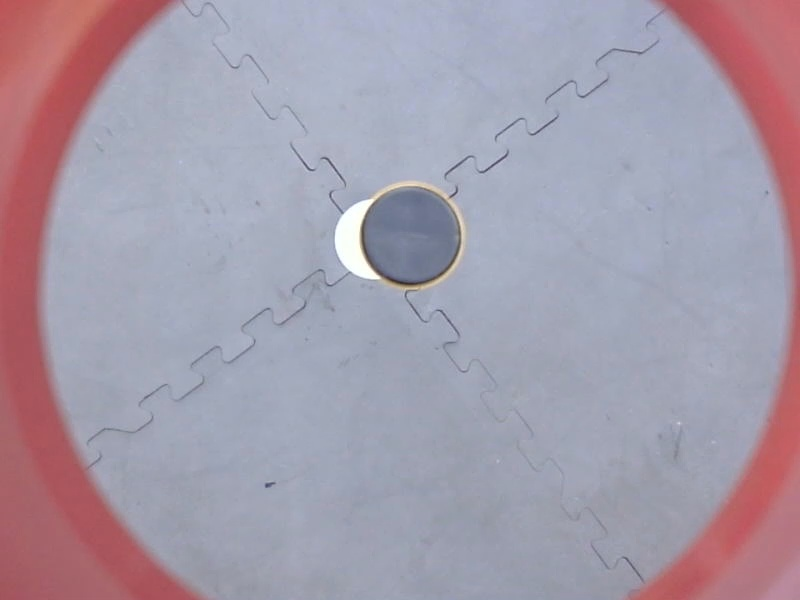tip: (354, 178, 471, 294)
